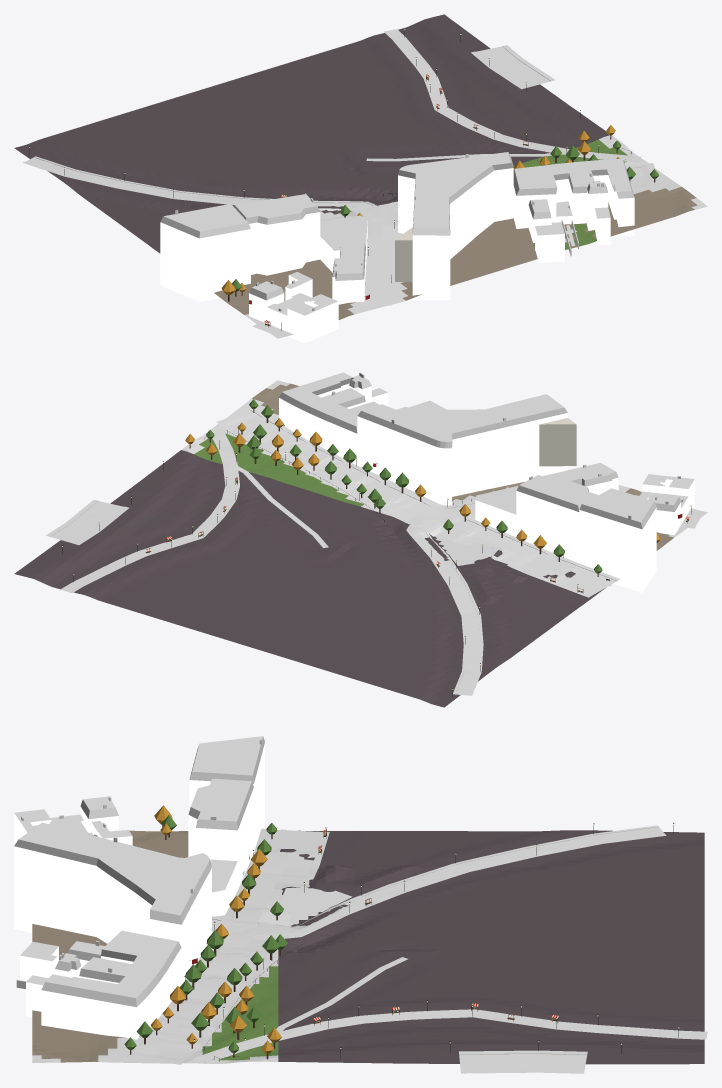
Rendered from zone_G7.glb.
The picture shows the model from 3 angles, top to bottom: view 1: azimuth 30°, elevation 25°; view 2: azimuth 150°, elevation 25°; view 3: azimuth 270°, elevation 25°; orthographic projection. The views are drawn at different scales.
Parts seen in each view (by area): view 1: zone_G7_terrain, zone_G7_batiments, zone_G7_sol_NOCOL, zone_G7_decor_NOCOL; view 2: zone_G7_terrain, zone_G7_batiments, zone_G7_sol_NOCOL, zone_G7_decor_NOCOL; view 3: zone_G7_terrain, zone_G7_batiments, zone_G7_sol_NOCOL, zone_G7_decor_NOCOL.
Boxes of the visible parts, x1=… form: zone_G7_terrain: x1=14, y1=14, x2=707, y2=338; zone_G7_batiments: x1=160, y1=152, x2=634, y2=343; zone_G7_sol_NOCOL: x1=23, y1=29, x2=660, y2=337; zone_G7_decor_NOCOL: x1=29, y1=29, x2=659, y2=330; zone_G7_terrain: x1=14, y1=380, x2=707, y2=707; zone_G7_batiments: x1=279, y1=372, x2=694, y2=592; zone_G7_sol_NOCOL: x1=46, y1=409, x2=703, y2=695; zone_G7_decor_NOCOL: x1=62, y1=399, x2=691, y2=696; zone_G7_terrain: x1=32, y1=830, x2=704, y2=1064; zone_G7_batiments: x1=14, y1=736, x2=264, y2=1039; zone_G7_sol_NOCOL: x1=120, y1=825, x2=707, y2=1073; zone_G7_decor_NOCOL: x1=124, y1=805, x2=679, y2=1061.
Bounding box in the file's own units: 220 × 37.57 × 220.
